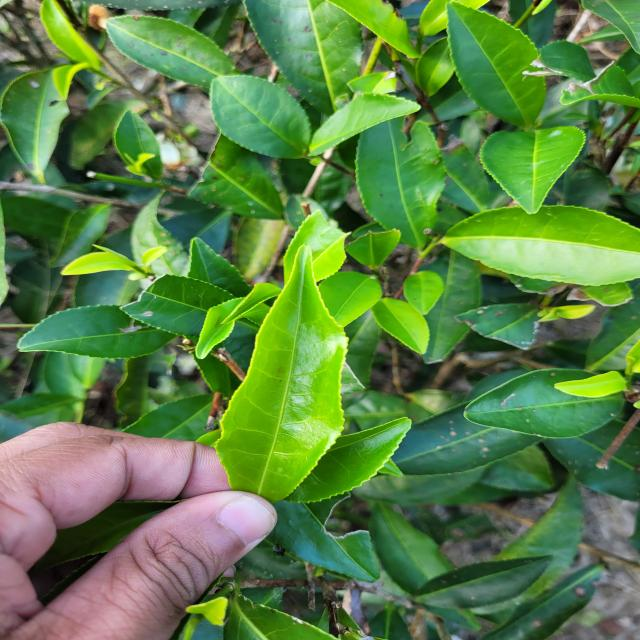Category B(2-4 days): (206, 237, 362, 513)
